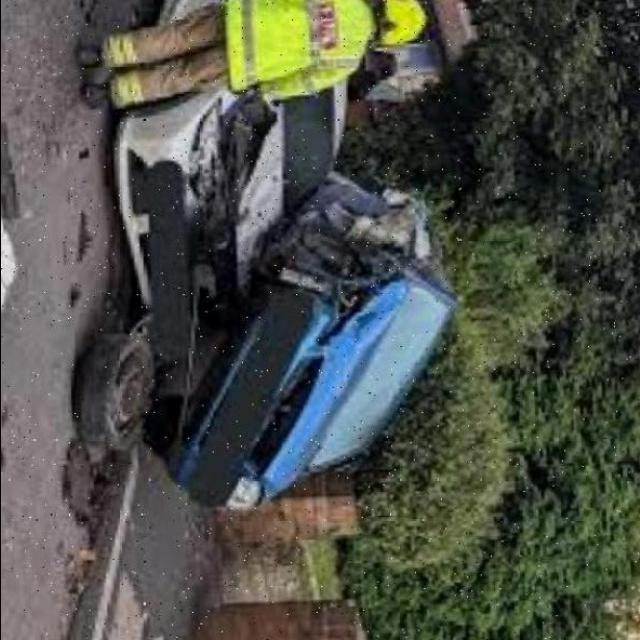accident: (147, 77, 430, 474)
